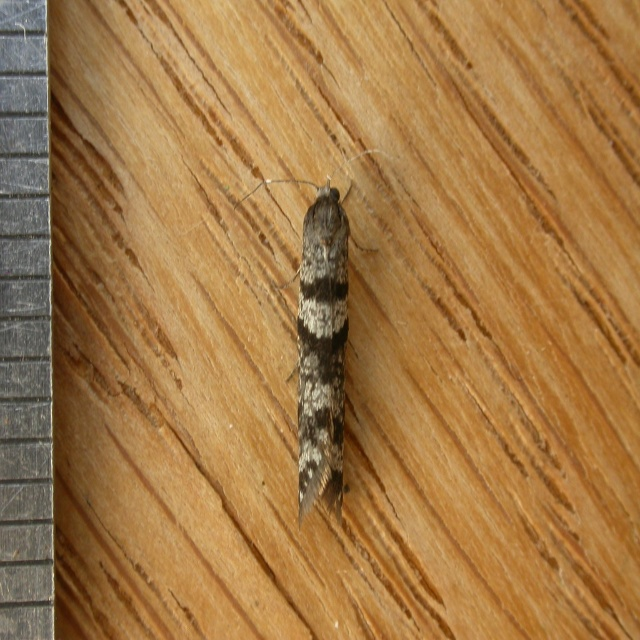Moths and butterflies: (232, 177, 383, 532)
